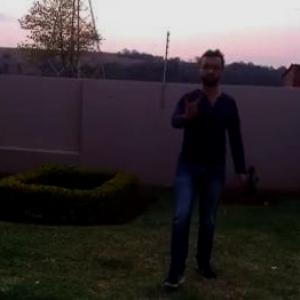takeoff-hand: (178, 86, 209, 120)
